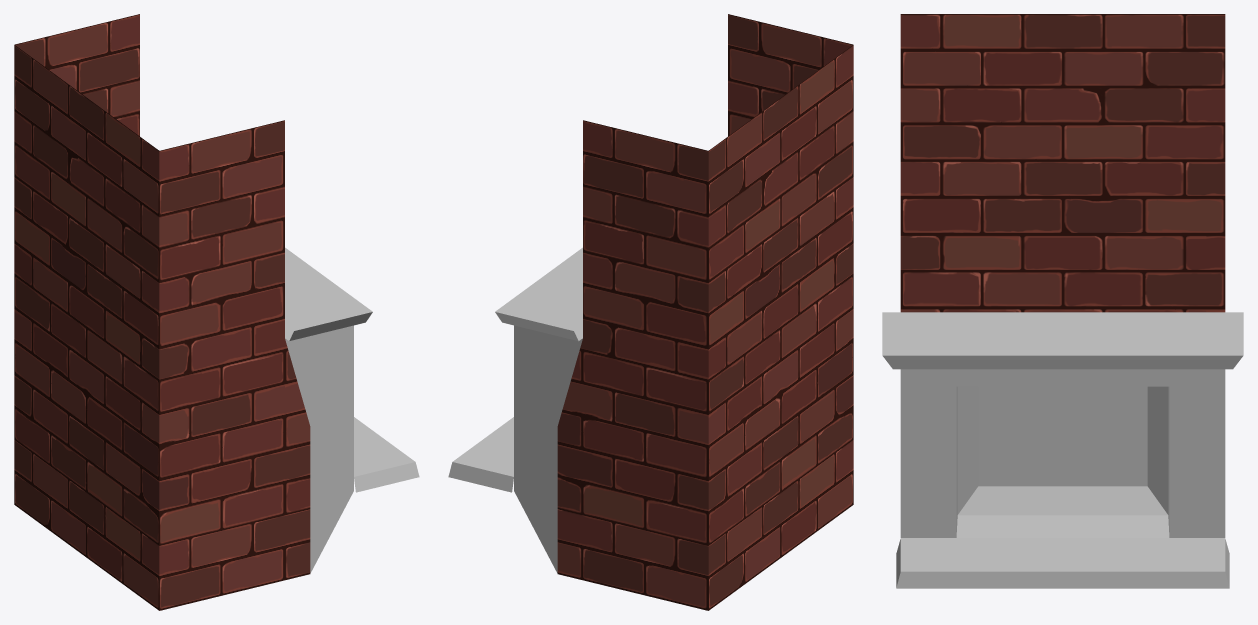
Rendered from chimney_bottom.fbx.
The picture shows the model from 3 angles, left to right: view 1: azimuth 30°, elevation 25°; view 2: azimuth 150°, elevation 25°; view 3: azimuth 270°, elevation 25°; orthographic projection. The views are drawn at different scales.
Parts seen in each view (by area): view 1: chimney_bottom; view 2: chimney_bottom; view 3: chimney_bottom.
Part boxes in pixels (x1,y1,x2,y2): chimney_bottom: [14, 14, 419, 610]; chimney_bottom: [448, 14, 853, 610]; chimney_bottom: [882, 14, 1243, 588].
Size of the model in its own units: 205 by 350 by 223.
